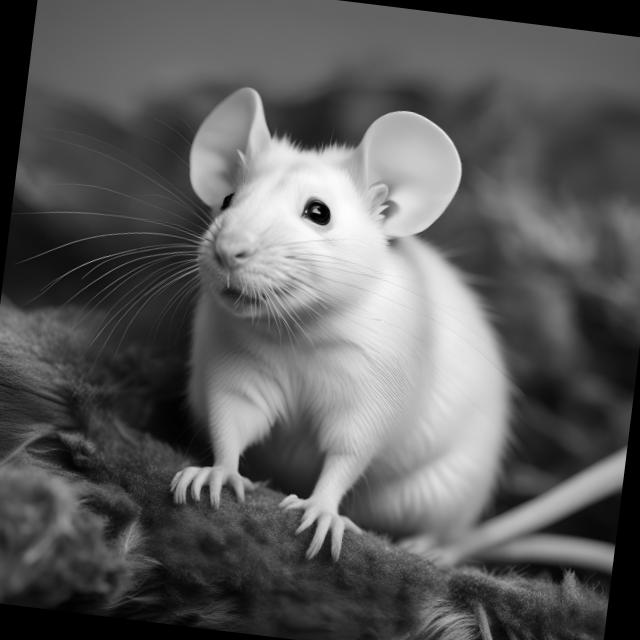rodents: (102, 57, 582, 582)
